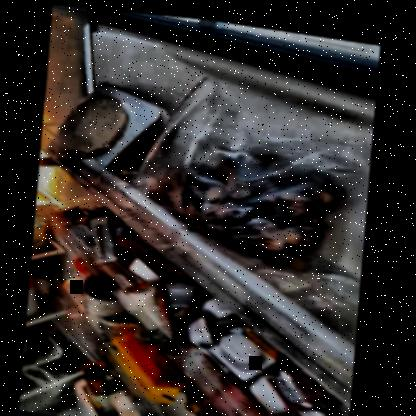butter: (104, 335, 181, 399)
dates: (155, 127, 335, 259)
milk: (107, 388, 150, 415)
salami: (55, 88, 130, 163)
